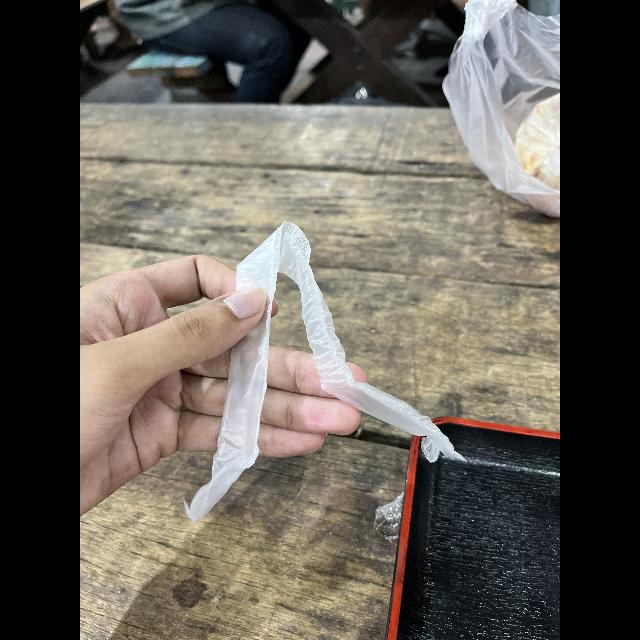plastic_bag: (442, 1, 560, 218)
scrap_plastic: (183, 220, 467, 522), (374, 480, 404, 546)
